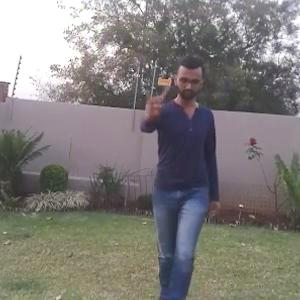takeoff-hand: (137, 83, 172, 121)
